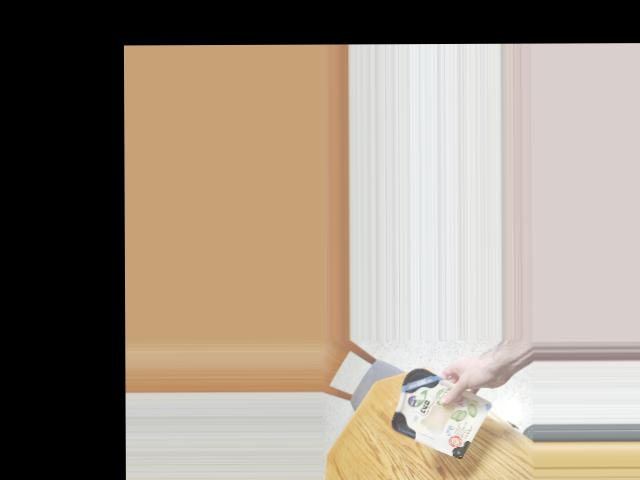cheese: (390, 362, 482, 454)
